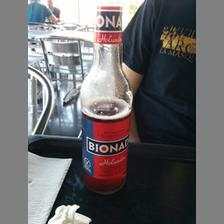Soda: (75, 0, 133, 196)
